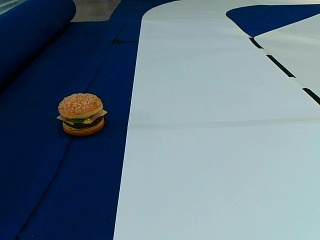burger: (56, 91, 106, 135)
